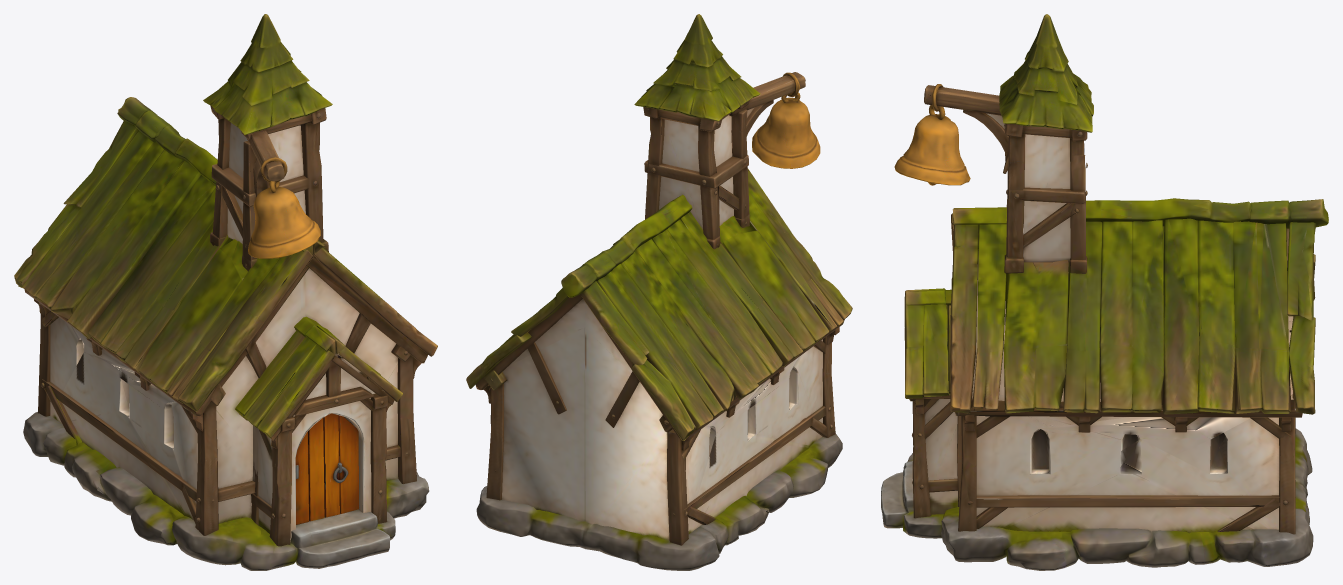
The model's file is chapel.glb.
The picture shows the model from 3 angles, left to right: view 1: azimuth 30°, elevation 25°; view 2: azimuth 150°, elevation 25°; view 3: azimuth 270°, elevation 25°; orthographic projection. The views are drawn at different scales.
Visible parts, largest first — view 1: geometry_0; view 2: geometry_0; view 3: geometry_0.
Boxes of the visible parts, bbox=[...] form: geometry_0: bbox=[14, 14, 437, 570]; geometry_0: bbox=[466, 14, 852, 570]; geometry_0: bbox=[881, 14, 1328, 570].
Bounding box in the file's own units: 0.5322 × 0.9517 × 0.7842.
Materials: 1 (1 with a texture image).
